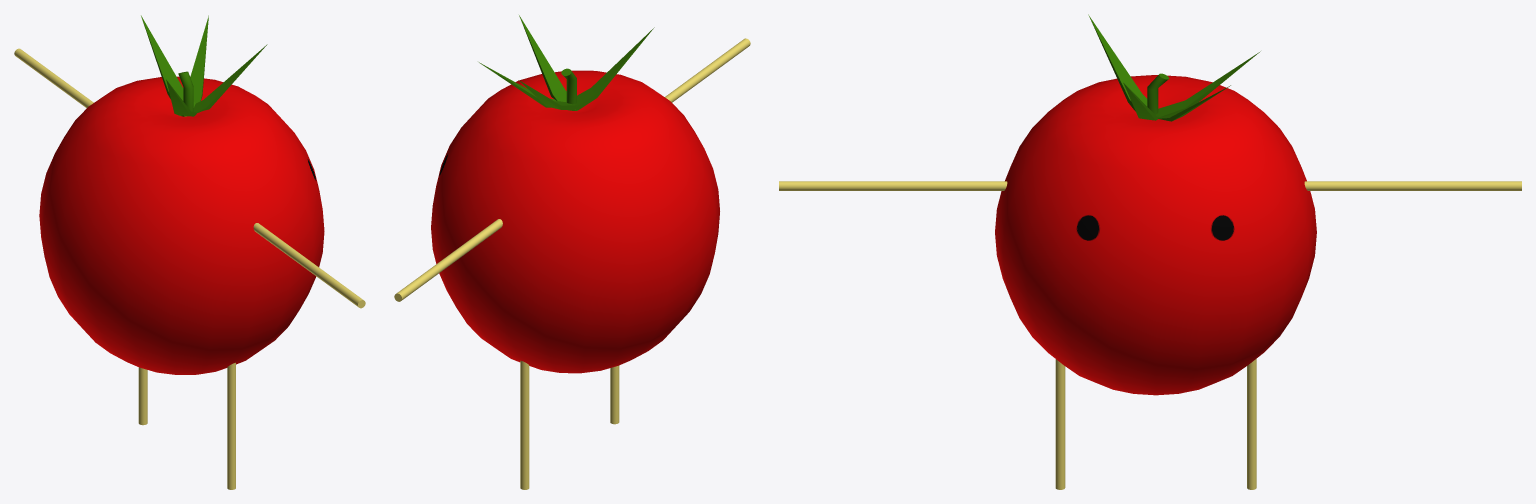
Rendered from TomatoMan.fbx.
The picture shows the model from 3 angles, left to right: view 1: azimuth 30°, elevation 25°; view 2: azimuth 150°, elevation 25°; view 3: azimuth 270°, elevation 25°; orthographic projection. The views are drawn at different scales.
Visible parts, largest first — view 1: pCylinder9; view 2: pCylinder9; view 3: pCylinder9.
Part boxes in pixels (x1,y1,x2,y2): pCylinder9: (14, 15, 365, 489); pCylinder9: (394, 15, 750, 489); pCylinder9: (779, 14, 1521, 489).
Size of the model in its own units: 4.27 by 6.9 by 10.41.
